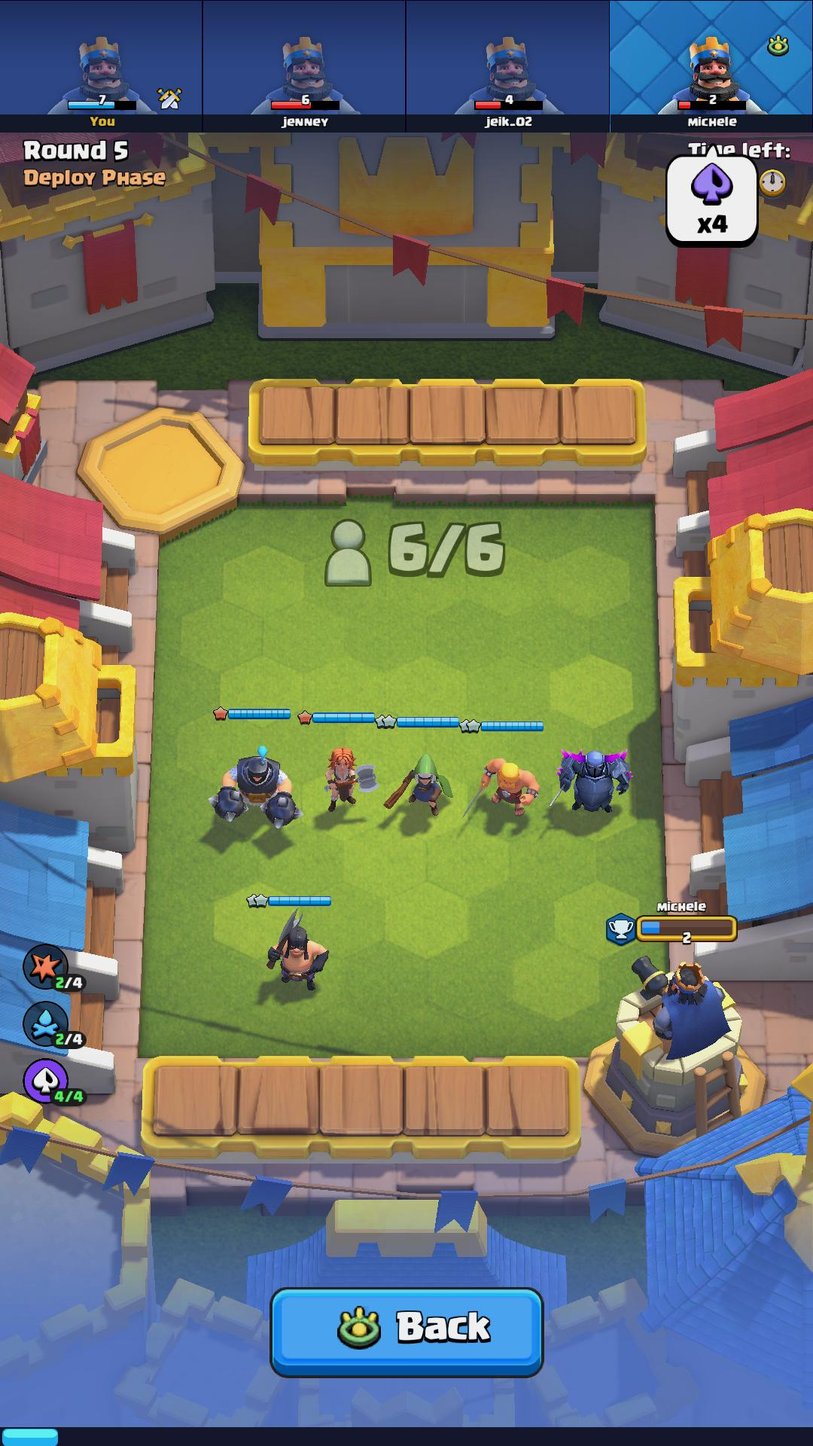bandit: (384, 744, 457, 823)
barbarian: (467, 743, 541, 831)
executioner: (261, 909, 336, 995)
mega: (203, 742, 305, 836)
pekka: (552, 741, 641, 822)
valkyrie: (309, 741, 383, 822)
